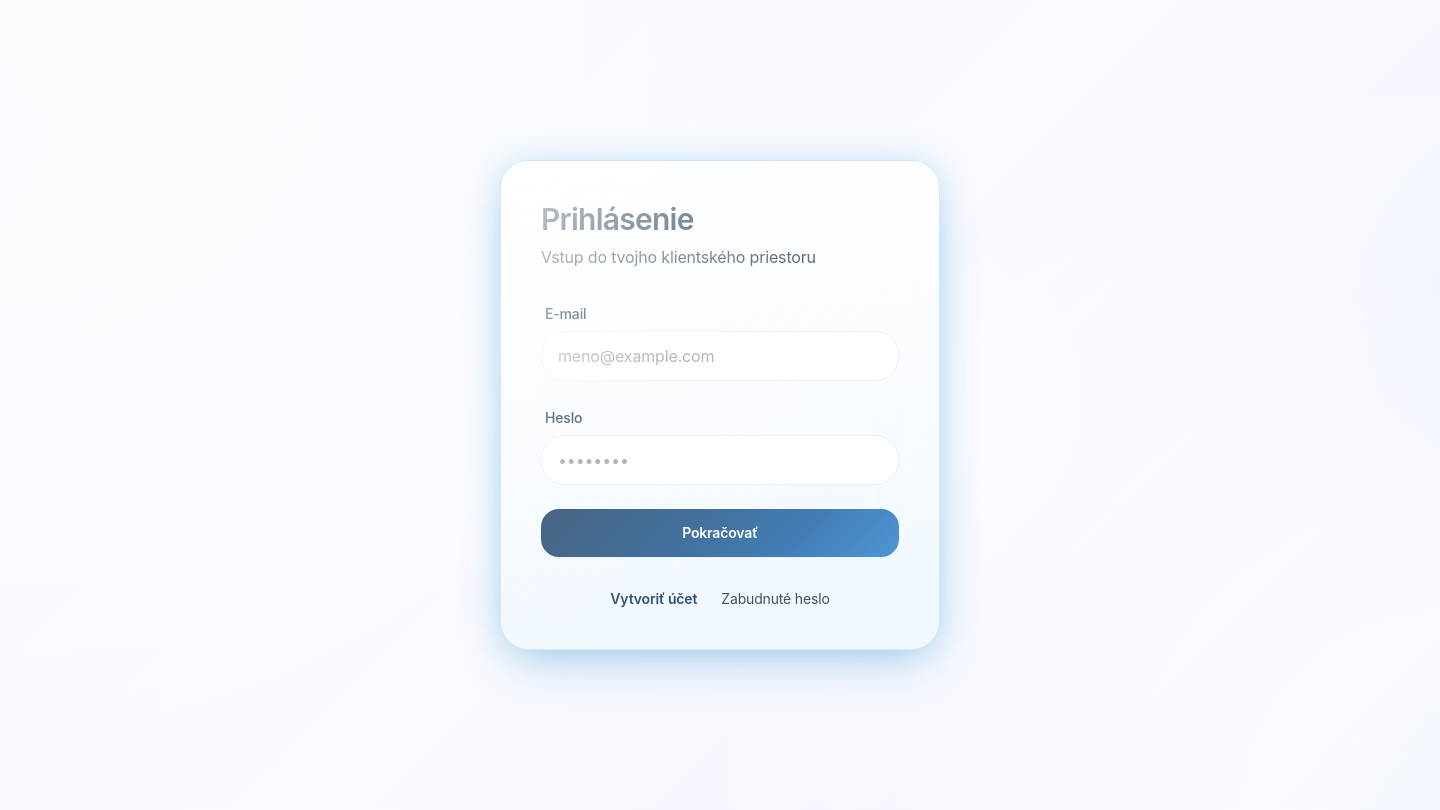
Test case: Auth page › registers user successfully
The width and height of the screenshot is (1440, 810).
Click the button "Vytvoriť účet" at (654, 599), box [610, 589, 697, 609]
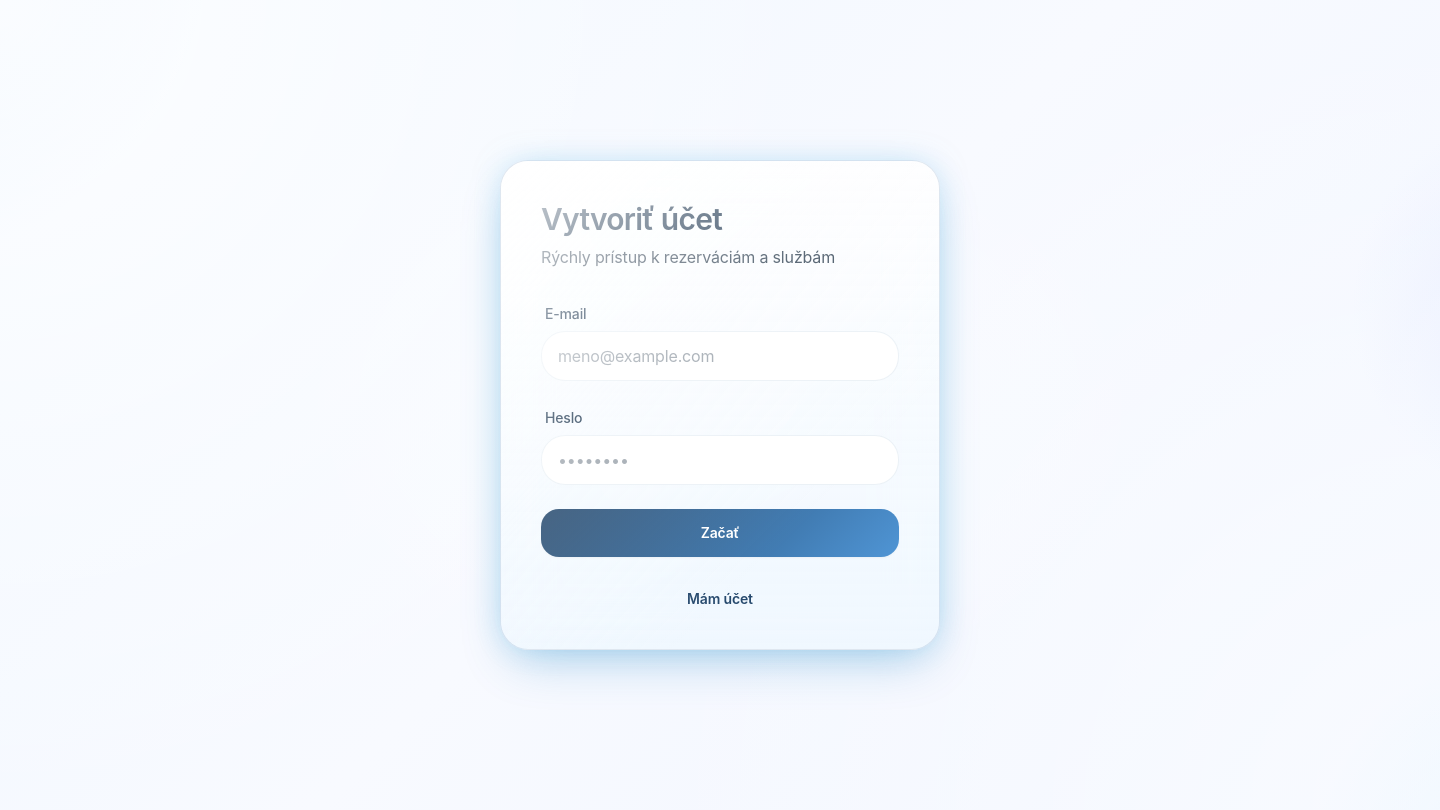
Type "new@example.com" into the field labelled "E-mail" at (720, 356), box [541, 331, 899, 381]
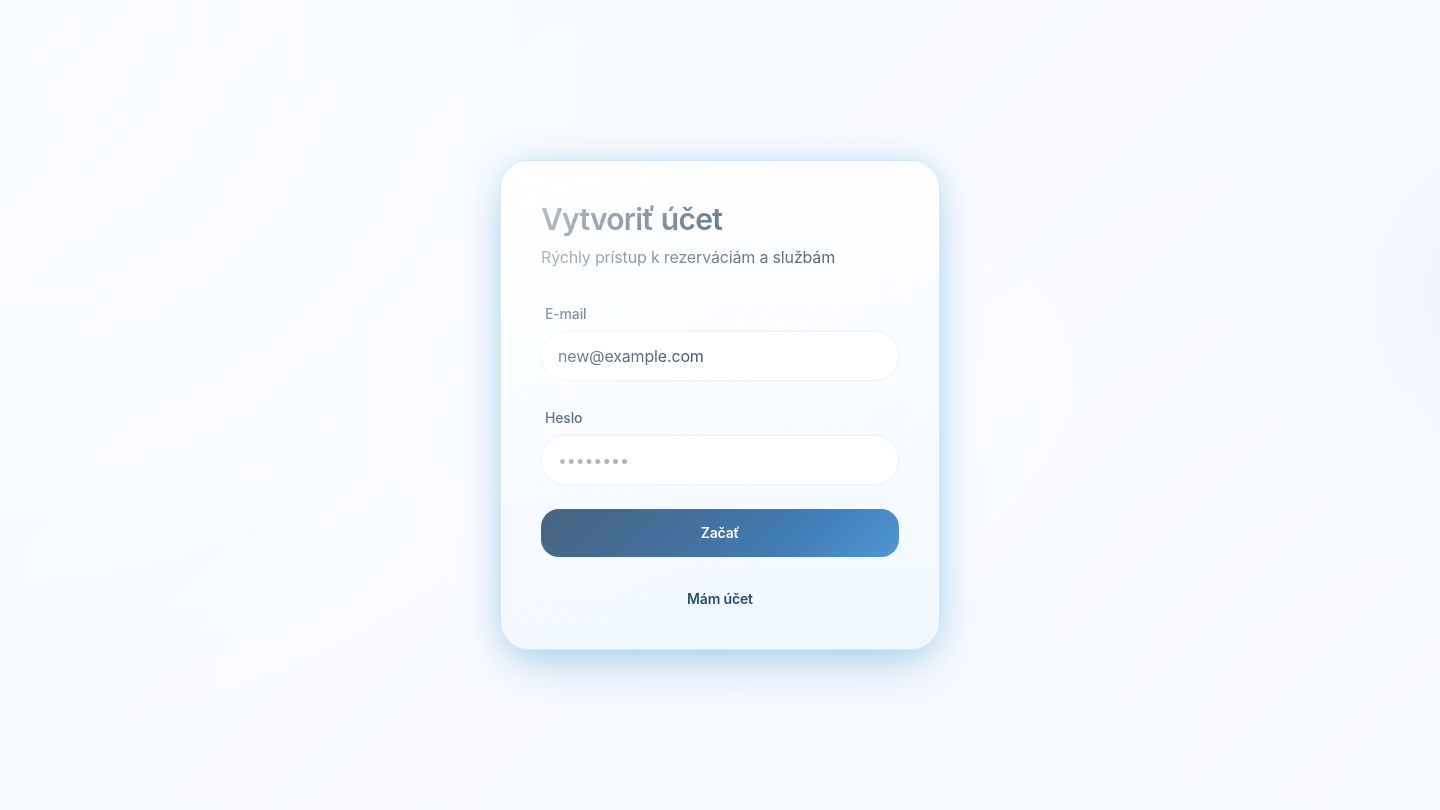
Type "secret123" into the password field labelled "Heslo" at (720, 460), box [541, 435, 899, 485]
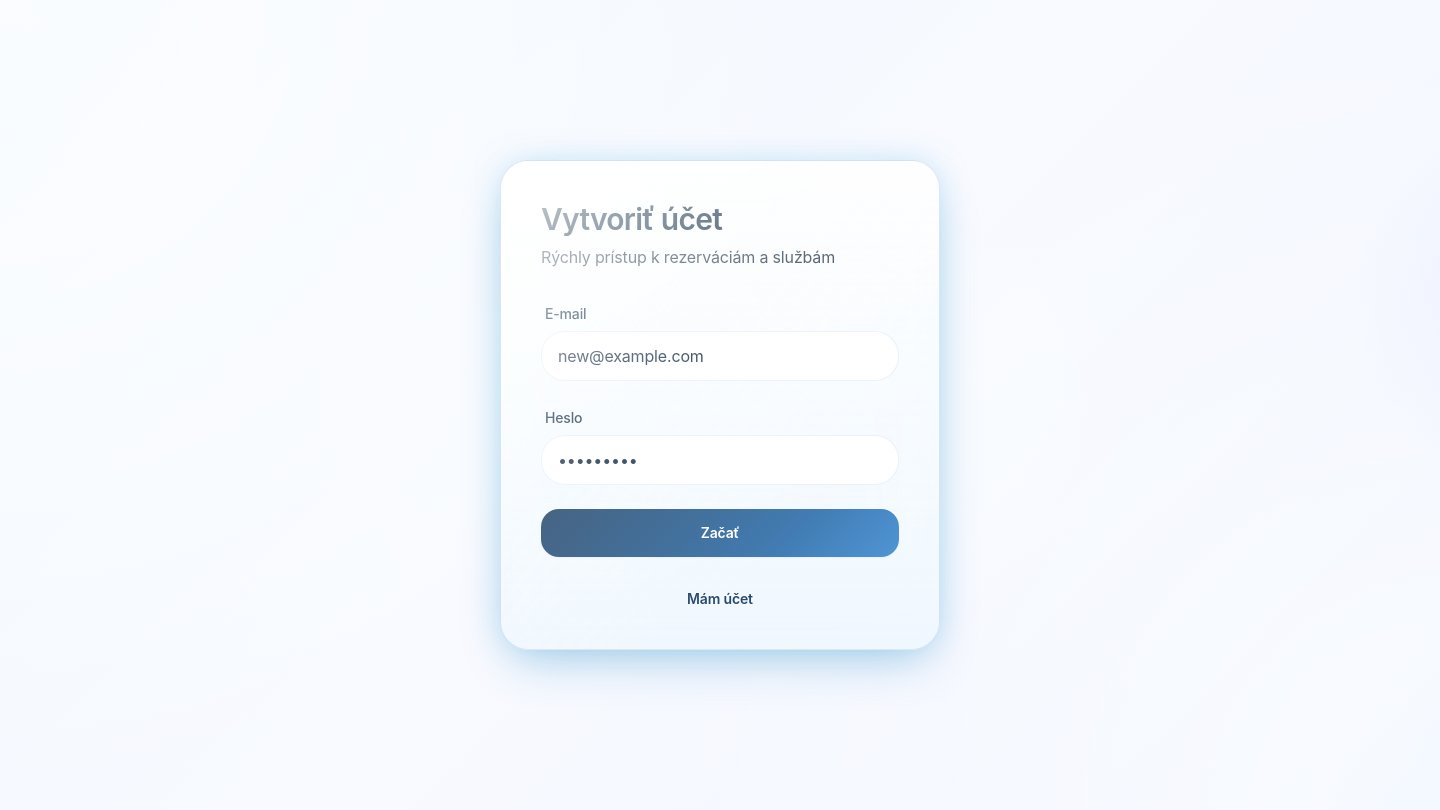
Click the button "Začať" at (720, 533), box [541, 509, 899, 557]
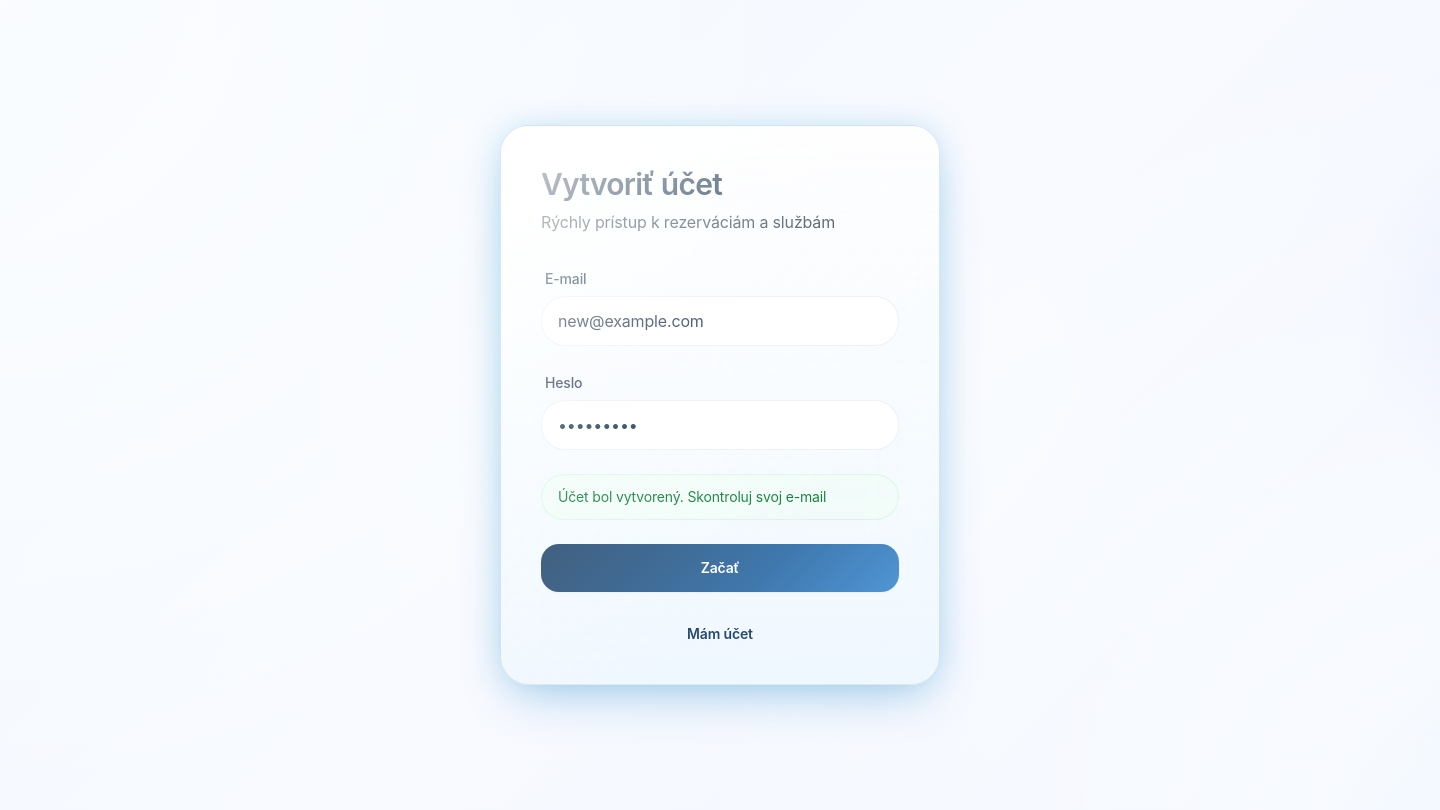
Expected: the text "Účet bol vytvorený. Skontroluj svoj e-mail" is shown, [541, 474, 899, 520]
